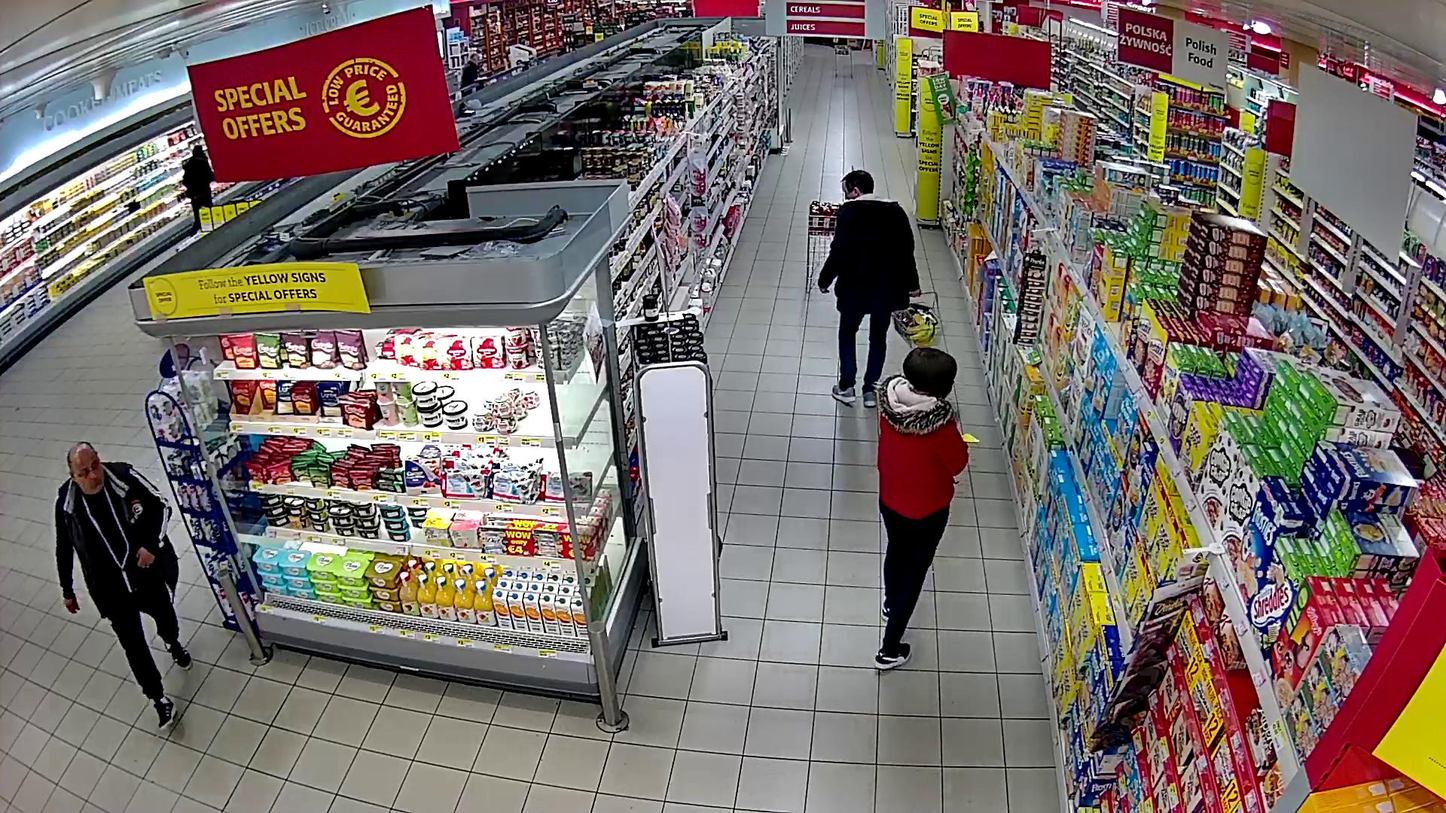filled-basket: (893, 289, 943, 350)
person: (818, 170, 921, 405)
person-with-filled-basket-trolly: (818, 169, 943, 406)
